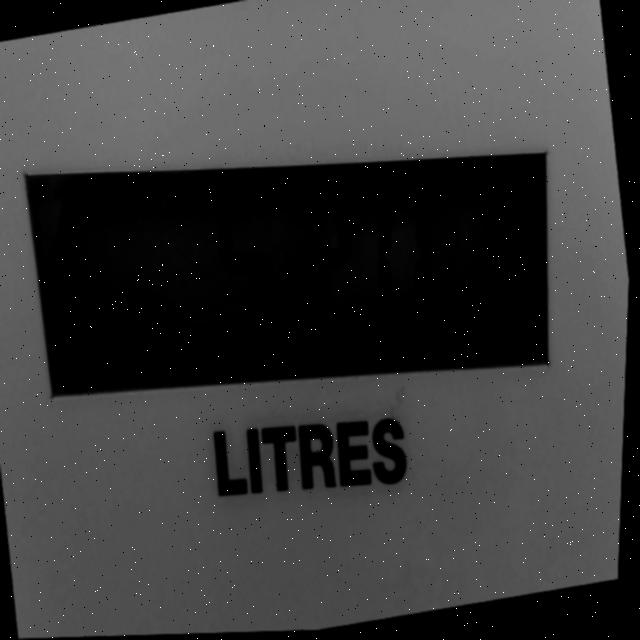.: (364, 311, 377, 333)
0: (361, 164, 450, 342)
1: (475, 167, 529, 328)
2: (285, 176, 369, 343)
5: (208, 173, 285, 350)
